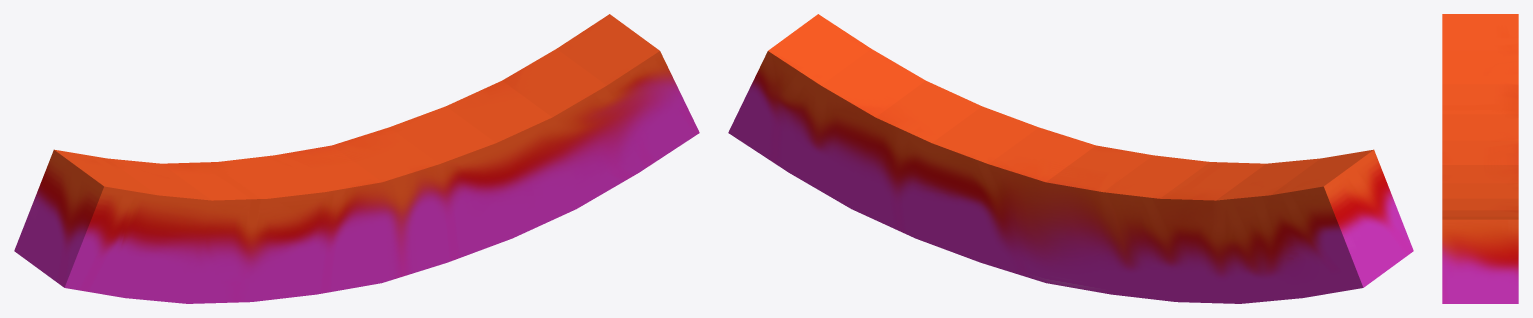
Rendered from middle2.obj.
3 renders of one model, left to right at view 1: azimuth 30°, elevation 25°; view 2: azimuth 150°, elevation 25°; view 3: azimuth 270°, elevation 25°, orthographic. The views are drawn at different scales.
Parts seen in each view (by area): view 1: middle.002; view 2: middle.002; view 3: middle.002.
Part boxes in pixels (<box>): middle.002: <box>14,14,699,303</box>; middle.002: <box>728,14,1413,303</box>; middle.002: <box>1442,14,1518,303</box>.
Bounding box in the file's own units: 4.4 × 1.09 × 0.6036.
Materials: 1 (1 with a texture image).
